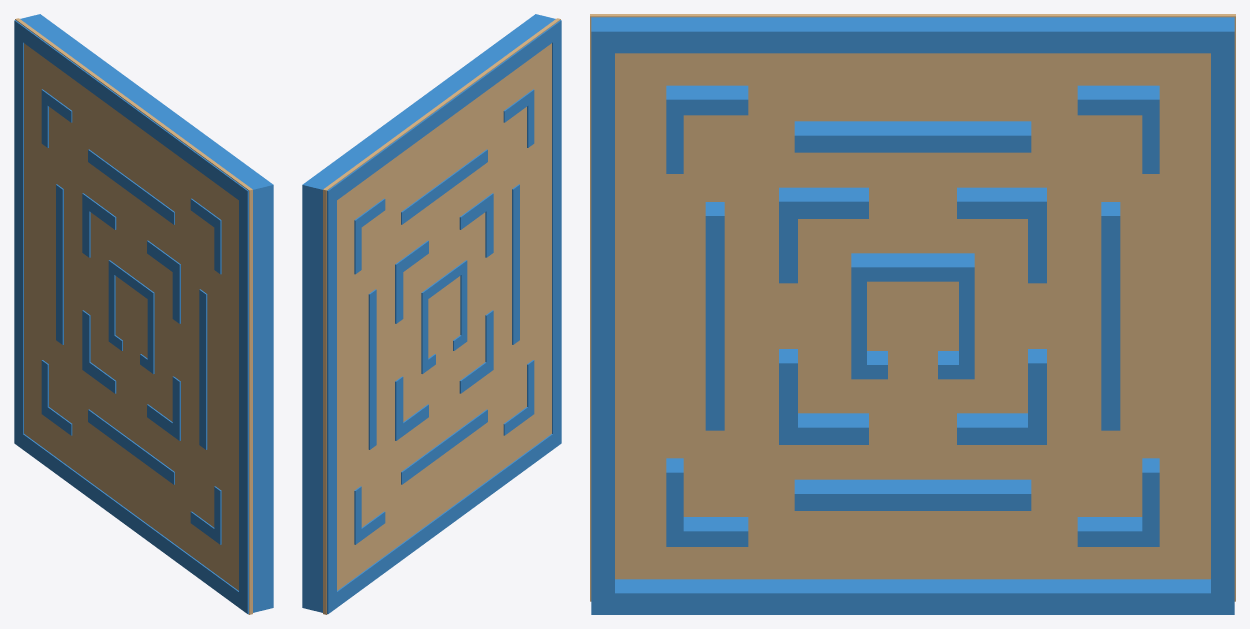
Rendered from MAP TEST.fbx.
The picture shows the model from 3 angles, left to right: view 1: azimuth 30°, elevation 25°; view 2: azimuth 150°, elevation 25°; view 3: azimuth 270°, elevation 25°; orthographic projection. The views are drawn at different scales.
Visible parts, largest first — view 1: GROUND, WALL; view 2: GROUND, WALL; view 3: GROUND, WALL.
Boxes of the visible parts, x1=… form: GROUND: x1=15, y1=18, x2=252, y2=614; WALL: x1=14, y1=14, x2=273, y2=613; GROUND: x1=323, y1=18, x2=560, y2=614; WALL: x1=302, y1=14, x2=561, y2=613; GROUND: x1=590, y1=14, x2=1235, y2=601; WALL: x1=591, y1=17, x2=1234, y2=614.
Bounding box in the file's own units: 414 × 6449 × 6449.
